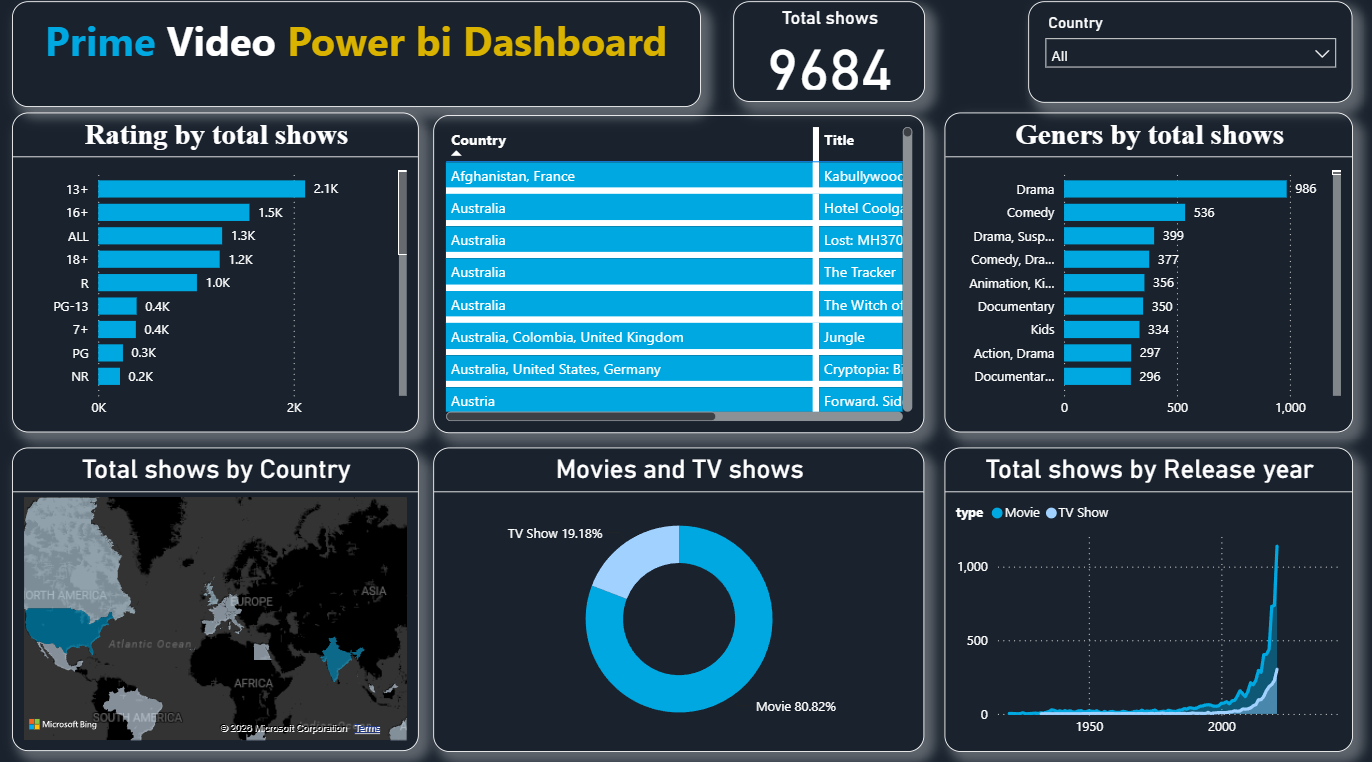

The page's visual inventory and layout, read from the dashboard file:
{"tool":"powerbi","page":{"name":"Page 1","canvas":[1280,720],"ordinal":0},"visuals":[{"type":"barChart","title":"Rating by total shows","fields":{"Category":["amazon_prime_titles.rating"],"Y":["CountNonNull(amazon_prime_titles.show_id)"]},"box":[13.7,109.8,378.7,297.8],"z":0},{"type":"barChart","title":"Geners by total shows","fields":{"Category":["amazon_prime_titles.listed_in"],"Y":["CountNonNull(amazon_prime_titles.show_id)"]},"box":[881,109.8,380.1,297.8],"z":1000},{"type":"tableEx","fields":{"Values":["amazon_prime_titles.country","amazon_prime_titles.title"]},"box":[406.2,111.1,456.9,296.4],"z":2000},{"type":"filledMap","title":"Total shows by Country","fields":{"Category":["amazon_prime_titles.country"]},"box":[13.7,421.3,378.7,282.7],"z":3000},{"type":"donutChart","title":"Movies and TV shows","fields":{"Category":["amazon_prime_titles.type"],"Y":["Count(amazon_prime_titles.show_id)"]},"box":[406,421,457,283],"z":4000},{"type":"areaChart","title":"Total shows by Release year","fields":{"Category":["amazon_prime_titles.release_year"],"Series":["amazon_prime_titles.type"],"Y":["Count(amazon_prime_titles.show_id)"]},"box":[881,421,380,283],"z":5000},{"type":"slicer","fields":{"Values":["amazon_prime_titles.country"]},"box":[959.2,5.5,301.9,94.7],"z":6000},{"type":"card","title":"Total shows","fields":{"Values":["Count(amazon_prime_titles.show_id)"]},"box":[684.7,5.5,178.4,93.3],"z":7000},{"type":"textbox","box":[13.7,5.5,640.8,98.8],"z":8000}]}

Visuals, with their boxes in screenshot pixels (x1, y1, x2, y2), scaled from the page's 1280x720 canvas onto the 1372x762 screenshot:
"Rating by total shows" barChart: {"x1": 15, "y1": 116, "x2": 421, "y2": 431}
"Geners by total shows" barChart: {"x1": 944, "y1": 116, "x2": 1352, "y2": 431}
tableEx - amazon_prime_titles.country x amazon_prime_titles.title: {"x1": 435, "y1": 118, "x2": 925, "y2": 431}
"Total shows by Country" filledMap: {"x1": 15, "y1": 446, "x2": 421, "y2": 745}
"Movies and TV shows" donutChart: {"x1": 435, "y1": 446, "x2": 925, "y2": 745}
"Total shows by Release year" areaChart: {"x1": 944, "y1": 446, "x2": 1352, "y2": 745}
slicer - amazon_prime_titles.country: {"x1": 1028, "y1": 6, "x2": 1352, "y2": 106}
"Total shows" card: {"x1": 734, "y1": 6, "x2": 925, "y2": 105}
textbox: {"x1": 15, "y1": 6, "x2": 702, "y2": 110}
